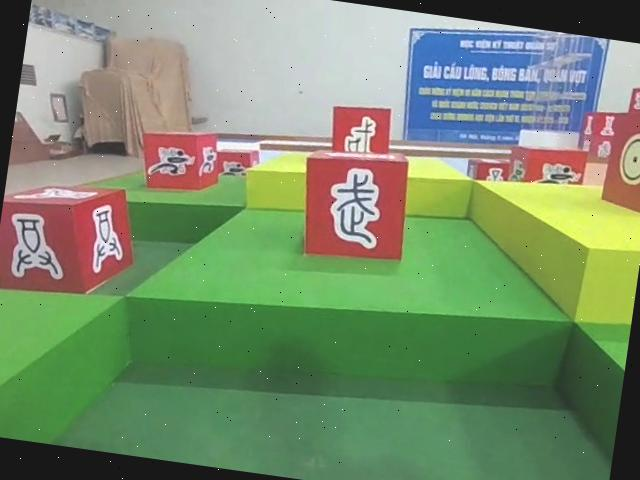R1: (132, 121, 225, 199)
R2 Fake: (291, 136, 418, 271)
R2 Real: (0, 169, 144, 307), (594, 101, 640, 216), (324, 97, 396, 165)
